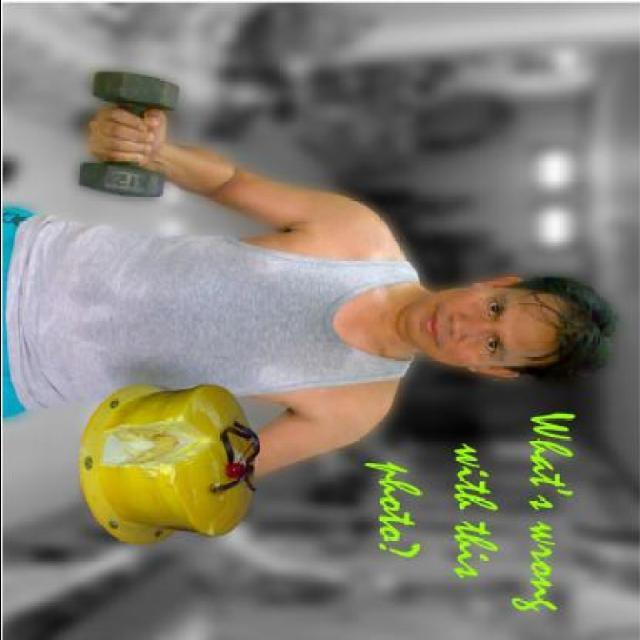Cake: (99, 379, 263, 541)
